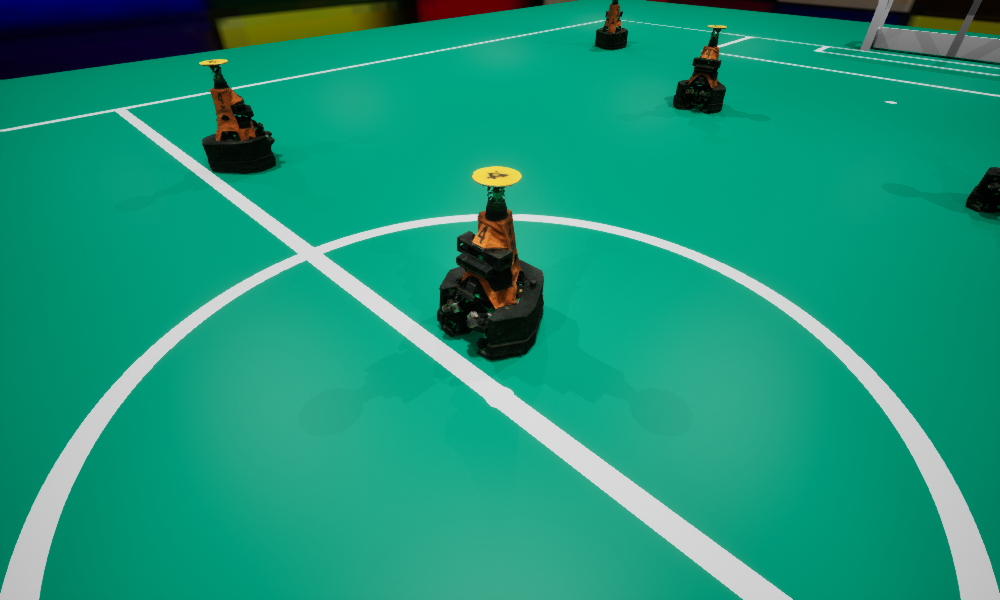o: (437, 166, 543, 359), (199, 59, 275, 173), (673, 25, 727, 112), (595, 0, 627, 49), (966, 167, 999, 212)
